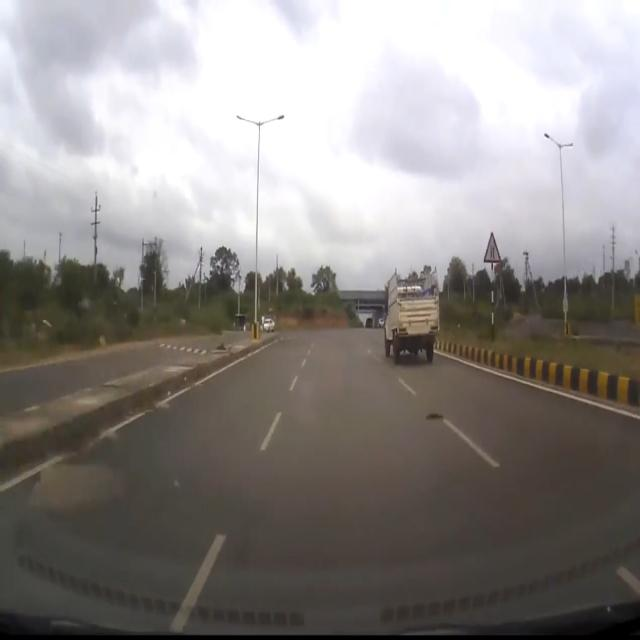bien_cam: (483, 228, 502, 265)
